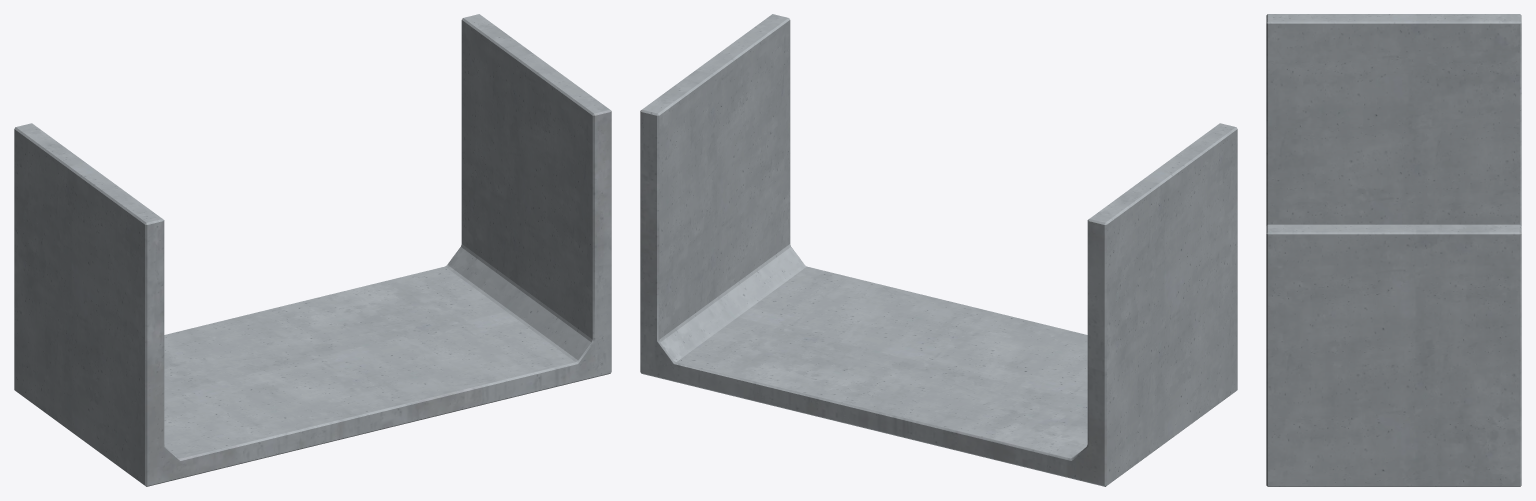
The model's file is Zbiornik Posredni.glb.
3 views of the same model, side by side, from view 1: azimuth 30°, elevation 25°; view 2: azimuth 150°, elevation 25°; view 3: azimuth 270°, elevation 25° (orthographic). The views are drawn at different scales.
Parts seen in each view (by area): view 1: Zbiorenik Posredni; view 2: Zbiorenik Posredni; view 3: Zbiorenik Posredni.
Boxes of the visible parts, x1=… form: Zbiorenik Posredni: x1=14, y1=14, x2=611, y2=486; Zbiorenik Posredni: x1=640, y1=14, x2=1237, y2=486; Zbiorenik Posredni: x1=1266, y1=14, x2=1521, y2=486.
Size of the model in its own units: 2.89 by 1.56 by 1.42.
1 material, 1 textured.
